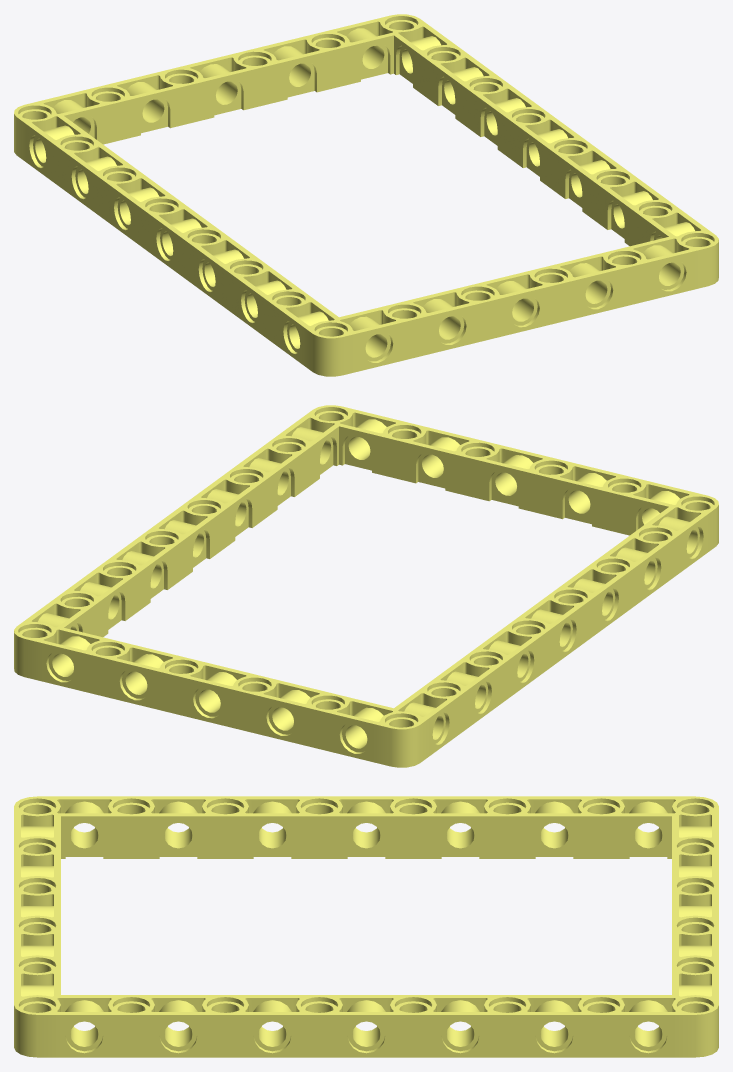
3 views of the same model, one above another, from view 1: azimuth 30°, elevation 25°; view 2: azimuth 150°, elevation 25°; view 3: azimuth 270°, elevation 25° (orthographic). The views are drawn at different scales.
Visible parts, largest first — view 1: 39790.dat; view 2: 39790.dat; view 3: 39790.dat.
Boxes of the visible parts, box(x1,y1,x2,y2) form: 39790.dat: box(14, 14, 718, 376); 39790.dat: box(14, 405, 718, 767); 39790.dat: box(14, 796, 718, 1057).
Size of the model in its own units: 0.088 by 0.008 by 0.12.
